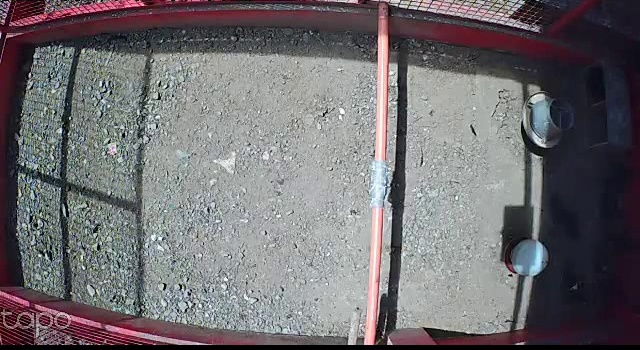Drinker: (501, 233, 550, 277)
Feeder: (521, 93, 576, 150)
